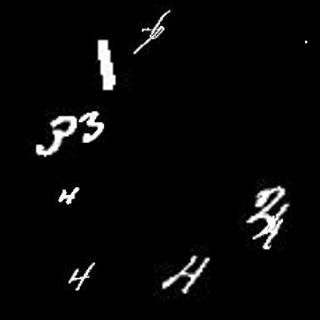four: (71, 258, 100, 290), (57, 186, 80, 209)
one: (93, 34, 119, 93)
seven: (138, 25, 154, 55)
six: (150, 6, 178, 39)
three: (35, 111, 78, 157), (79, 107, 109, 142)
